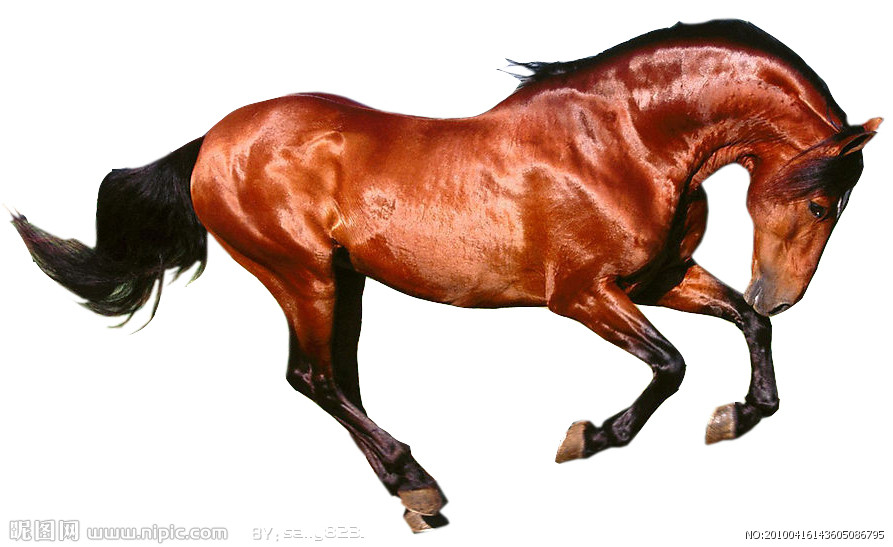horse: (4, 20, 888, 533)
